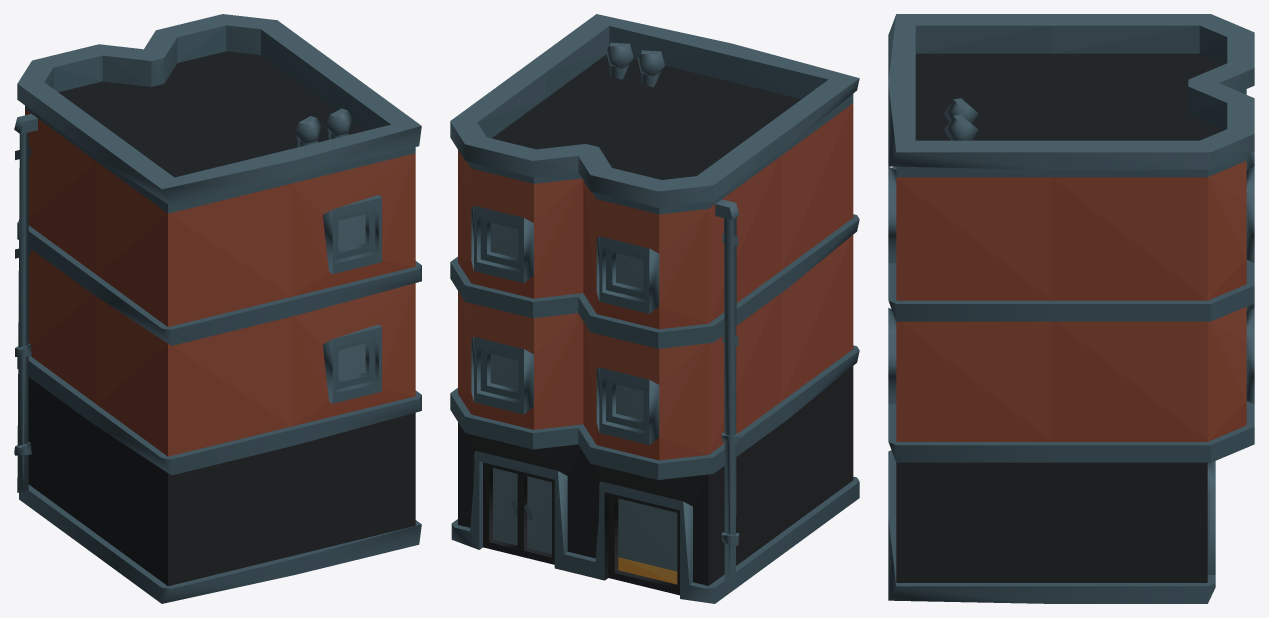
The model's file is building-a.mid.47ef8221.glb.
The picture shows the model from 3 angles, left to right: view 1: azimuth 30°, elevation 25°; view 2: azimuth 150°, elevation 25°; view 3: azimuth 270°, elevation 25°; orthographic projection. The views are drawn at different scales.
Parts seen in each view (by area): view 1: building-a; view 2: building-a; view 3: building-a.
Boxes of the visible parts, x1,y1,x2,y2 form: building-a: (14,14,421,603); building-a: (450,14,859,603); building-a: (888,14,1254,603).
Bounding box in the file's own units: 10.6 × 15.52 × 11.28.
